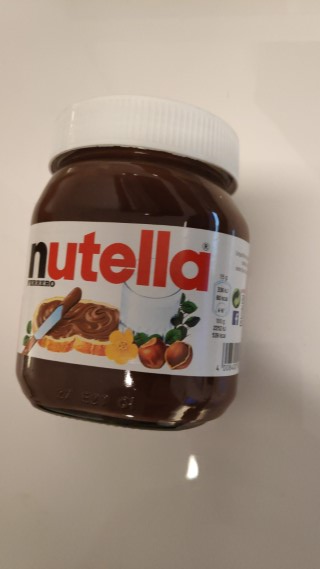nutella: (13, 90, 252, 432)
